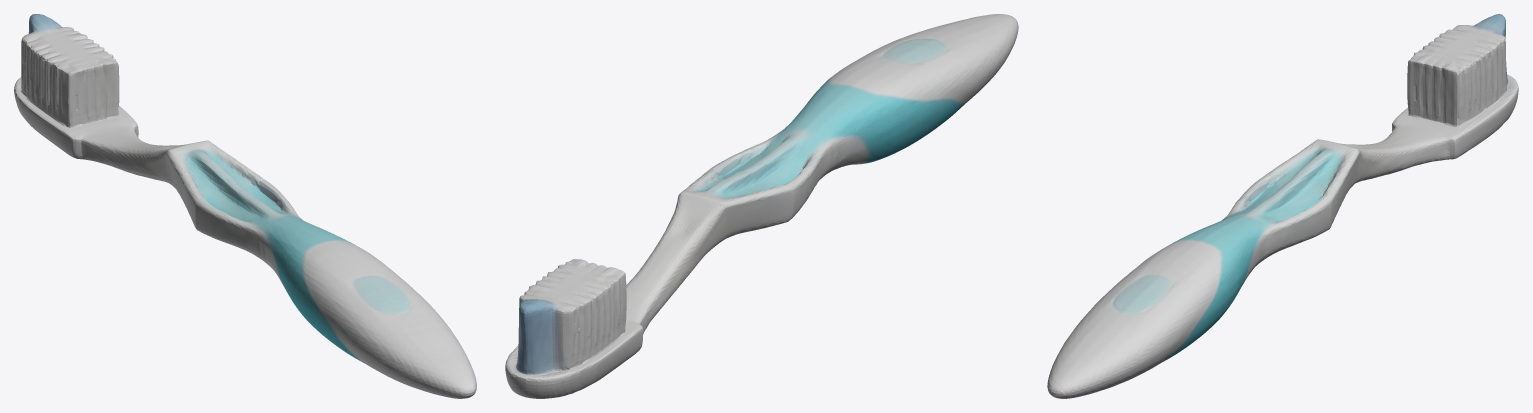
File: obj1_sam3d_obb.glb
3 views of the same model, side by side, from view 1: azimuth 30°, elevation 25°; view 2: azimuth 150°, elevation 25°; view 3: azimuth 330°, elevation 25° (orthographic). The views are drawn at different scales.
Parts seen in each view (by area): view 1: world; view 2: world; view 3: world.
Boxes of the visible parts, left/top/right/bottom form: world: left=14, top=14, right=476, bottom=398; world: left=505, top=14, right=1018, bottom=398; world: left=1047, top=14, right=1518, bottom=398.
Size of the model in its own units: 0.0193 by 0.0186 by 0.1729.
